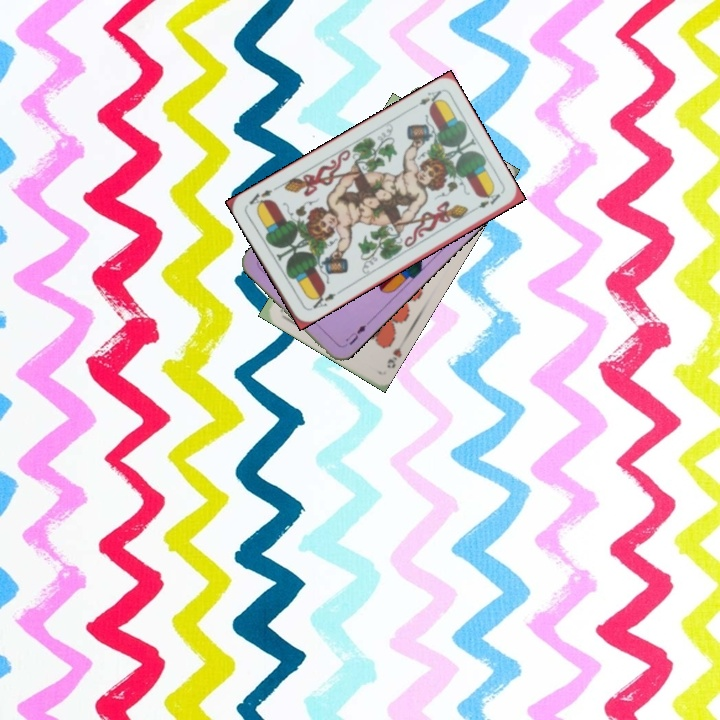EA: (306, 287, 343, 313), (408, 86, 445, 112)
EU: (341, 321, 369, 348)
H9: (383, 343, 404, 371)
